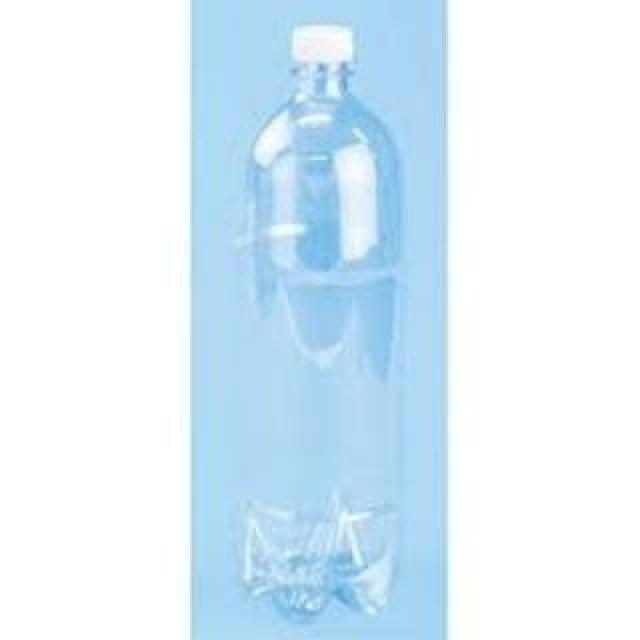Pet_Bottle: (232, 23, 408, 629)
